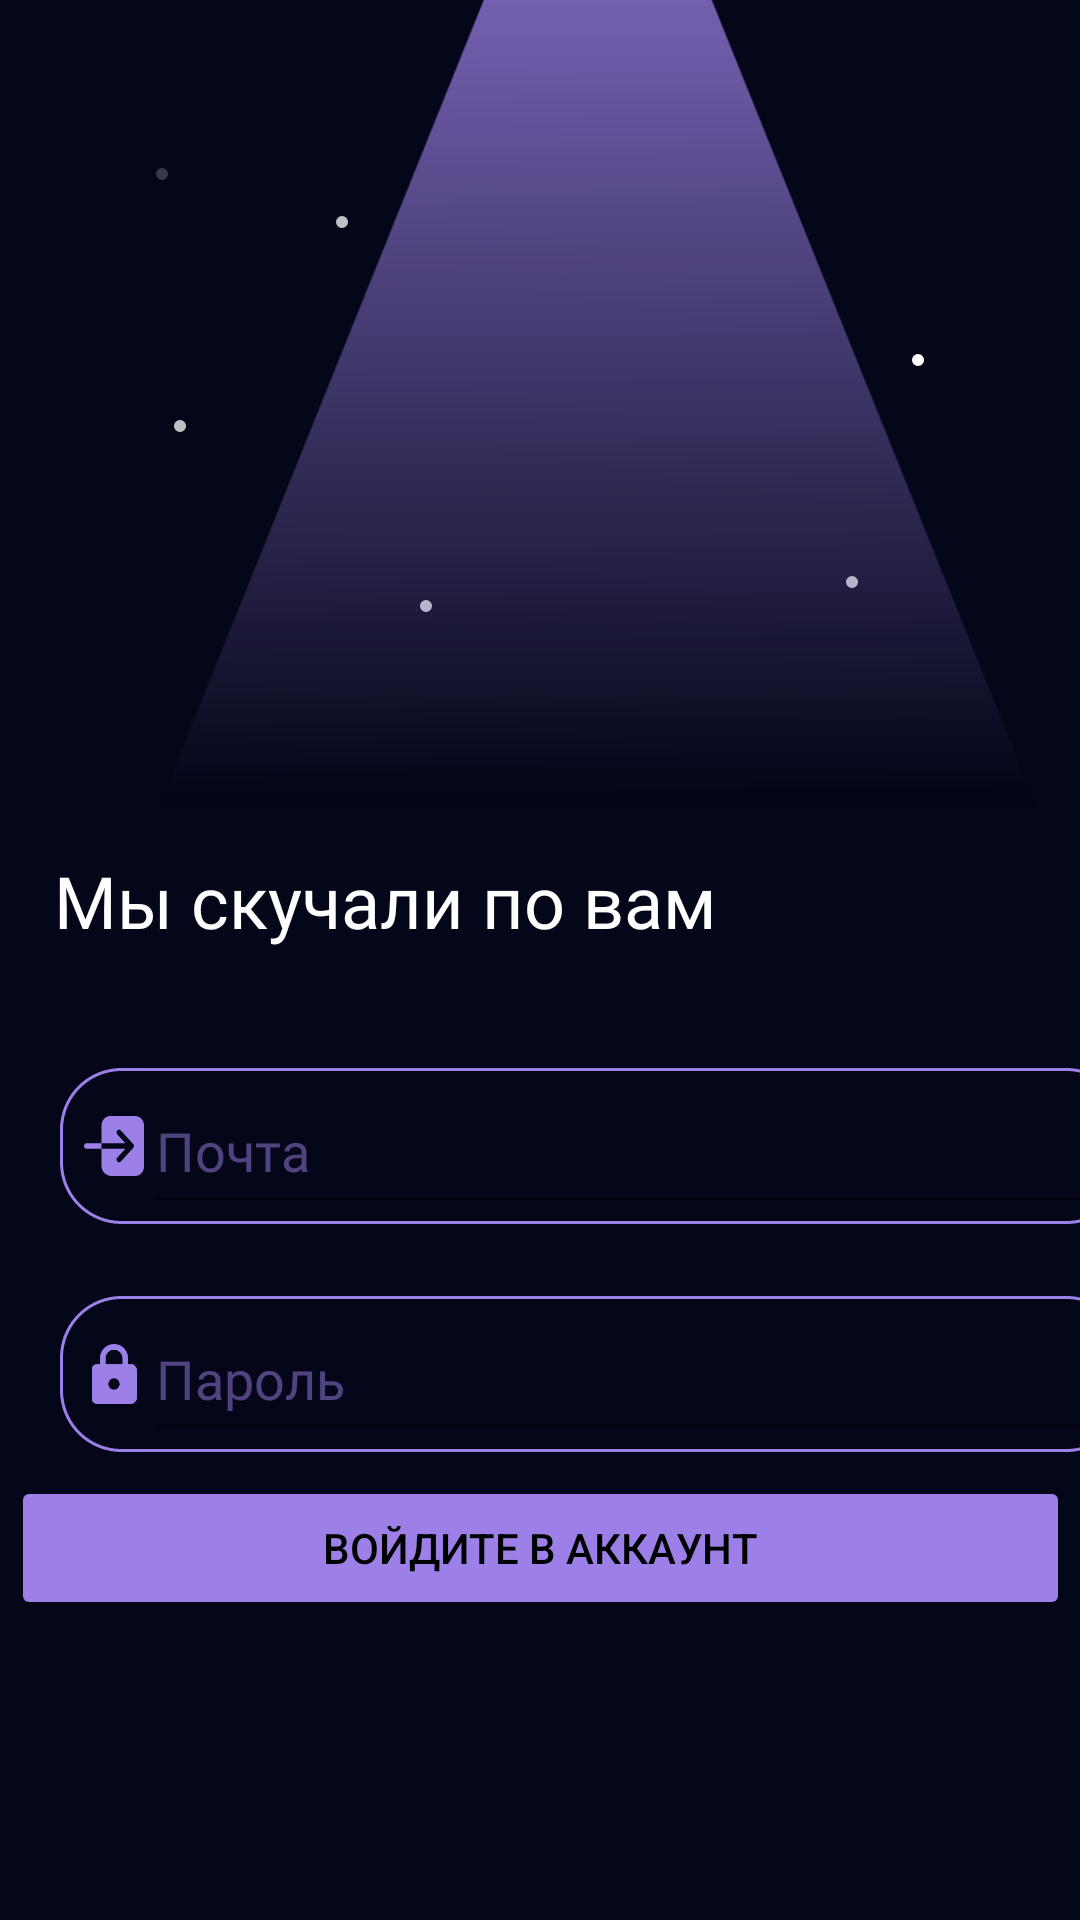

Icons on this 1080x1920 Android screen, each with its box as bbox(x1, y1, x2, y2):
enterlogin: bbox(84, 1116, 144, 1176)
enterpassword: bbox(92, 1344, 137, 1404)
